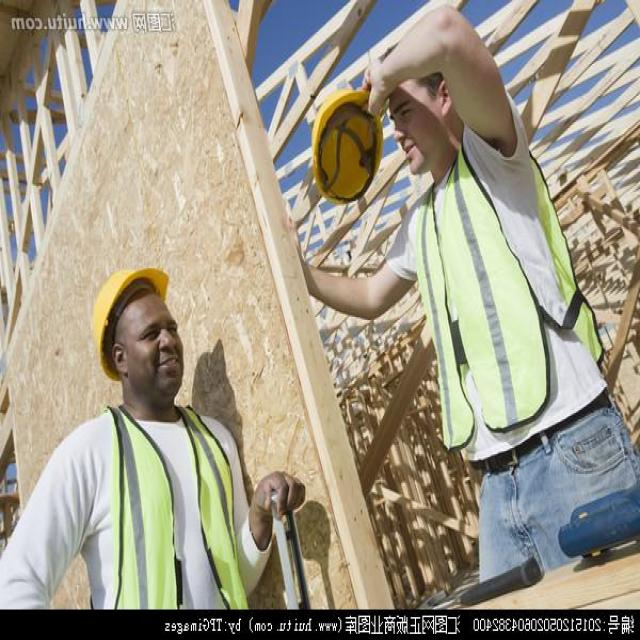Reflective-Jacket: (412, 131, 599, 448), (77, 394, 253, 612)
Safety-Helmet: (80, 251, 181, 384), (307, 81, 392, 207)
